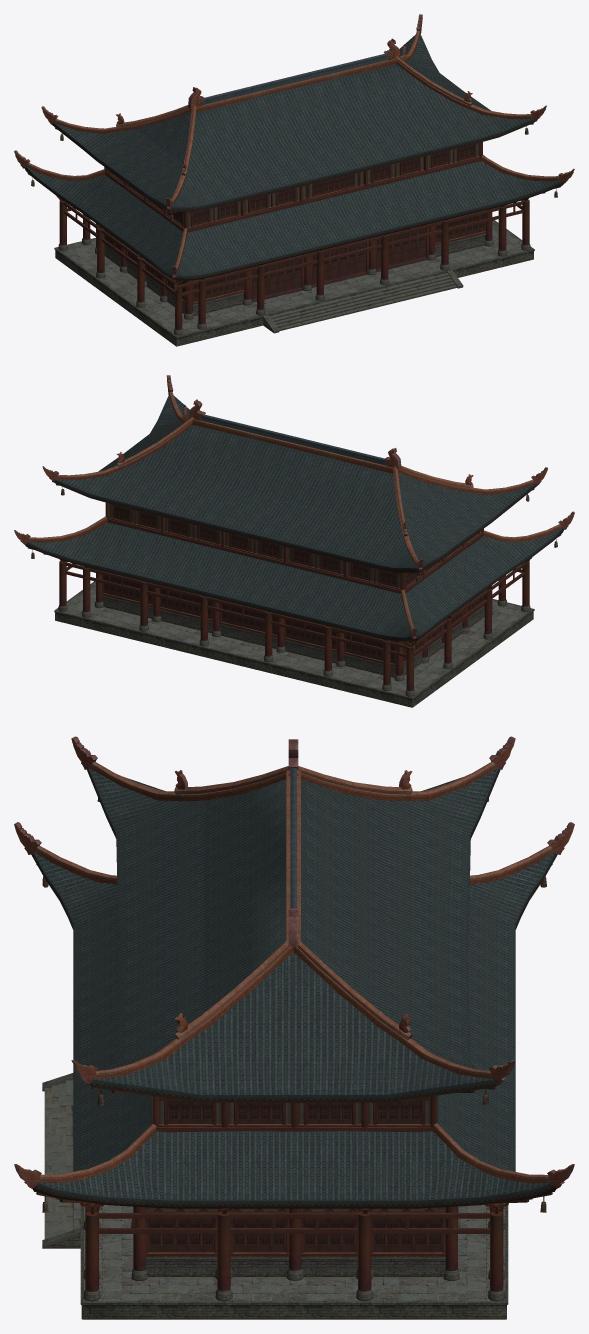
The model's file is mainhall.glb.
3 views of the same model, one above another, from view 1: azimuth 30°, elevation 25°; view 2: azimuth 150°, elevation 25°; view 3: azimuth 270°, elevation 25° (orthographic). The views are drawn at different scales.
Visible parts, largest first — view 1: HZ_building_116_0_Material.010_0, HZ_building_116_1_Material.011_0, HZ_building_116_2_Material.012_0; view 2: HZ_building_116_0_Material.010_0, HZ_building_116_1_Material.011_0, HZ_building_116_2_Material.012_0; view 3: HZ_building_116_0_Material.010_0, HZ_building_116_1_Material.011_0, HZ_building_116_2_Material.012_0.
Boxes of the visible parts, x1,y1,x2,y2 form: HZ_building_116_0_Material.010_0: (24, 34, 563, 281); HZ_building_116_1_Material.011_0: (27, 123, 561, 346); HZ_building_116_2_Material.012_0: (14, 14, 574, 290); HZ_building_116_0_Material.010_0: (25, 394, 564, 642); HZ_building_116_1_Material.011_0: (27, 484, 561, 707); HZ_building_116_2_Material.012_0: (14, 375, 574, 651); HZ_building_116_0_Material.010_0: (31, 768, 557, 1208); HZ_building_116_1_Material.011_0: (36, 864, 552, 1319); HZ_building_116_2_Material.012_0: (14, 736, 574, 1212).
Size of the model in its own units: 5416 by 2508 by 3728.
Materials: 3 (3 with a texture image).
